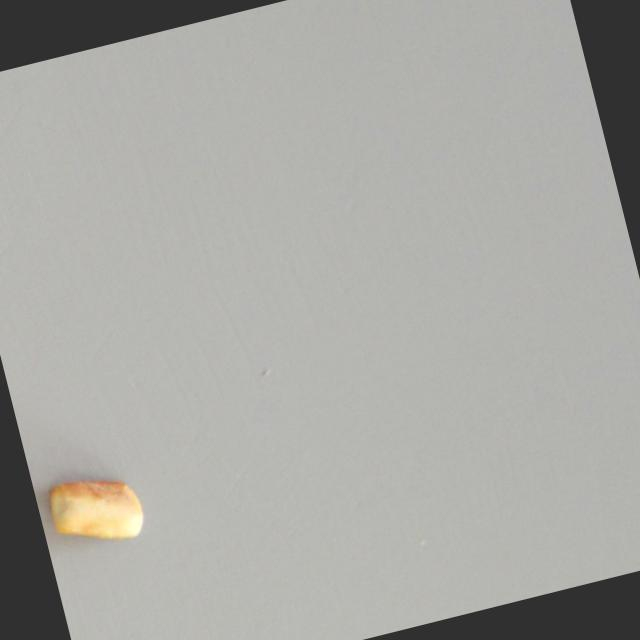dañado: (37, 458, 152, 567)
